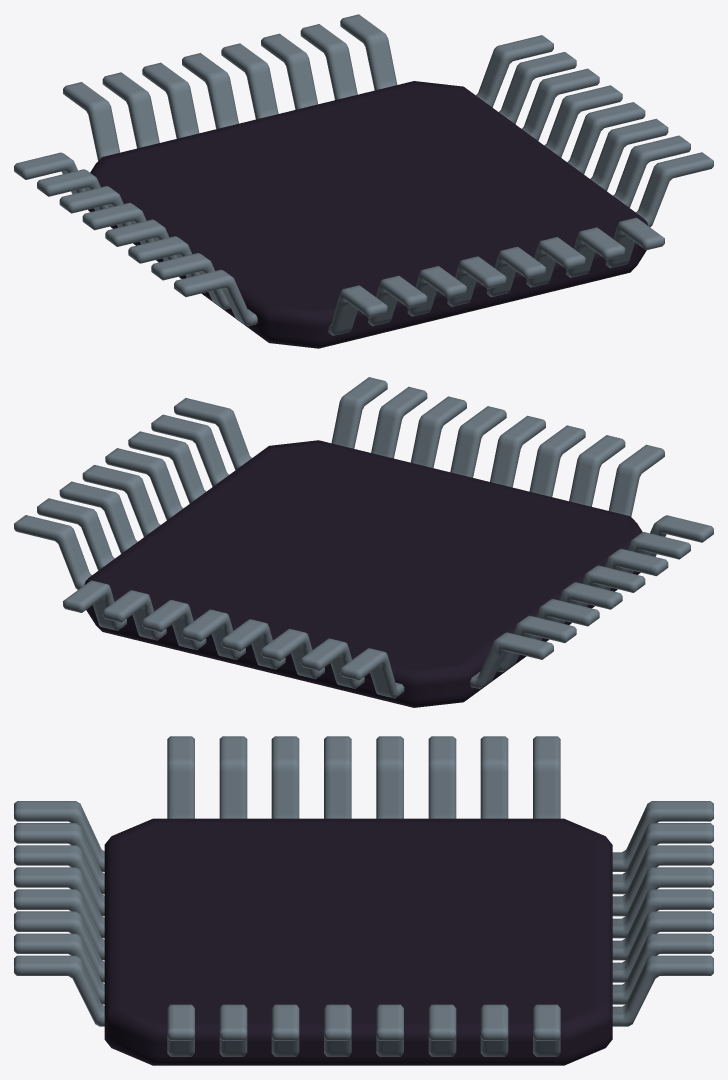
3 renders of one model, top to bottom at view 1: azimuth 30°, elevation 25°; view 2: azimuth 150°, elevation 25°; view 3: azimuth 270°, elevation 25°, orthographic. The views are drawn at different scales.
Visible parts, largest first — view 1: chip_001_mesh, pins_001_mesh; view 2: chip_001_mesh, pins_001_mesh; view 3: chip_001_mesh, pins_001_mesh.
Part boxes in pixels (x1=…): chip_001_mesh: x1=88, y1=81, x2=648, y2=348; pins_001_mesh: x1=14, y1=14, x2=713, y2=335; chip_001_mesh: x1=84, y1=440, x2=642, y2=707; pins_001_mesh: x1=14, y1=377, x2=713, y2=698; chip_001_mesh: x1=104, y1=818, x2=612, y2=1065; pins_001_mesh: x1=14, y1=736, x2=713, y2=1056.
Size of the model in its own units: 11.95 by 1.48 by 11.95.
